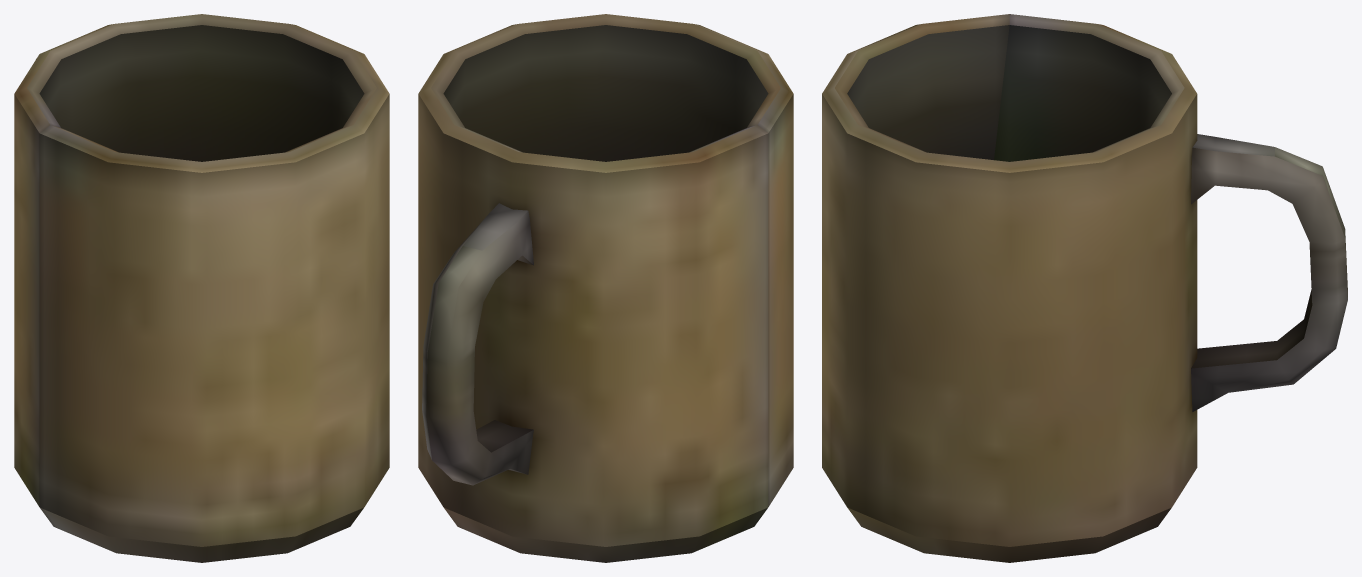
File: garbage_coffeemug001a.glb
The picture shows the model from 3 angles, left to right: view 1: azimuth 30°, elevation 25°; view 2: azimuth 150°, elevation 25°; view 3: azimuth 270°, elevation 25°; orthographic projection.
Visible parts, largest first — view 1: 0_garbage003a_01; view 2: 0_garbage003a_01; view 3: 0_garbage003a_01.
Boxes of the visible parts, bbox=[...] form: 0_garbage003a_01: bbox=[14, 14, 389, 562]; 0_garbage003a_01: bbox=[418, 14, 793, 562]; 0_garbage003a_01: bbox=[822, 14, 1347, 562].
Size of the model in its own units: 0.1191 by 0.141 by 0.1669.
Materials: 1 (1 with a texture image).
